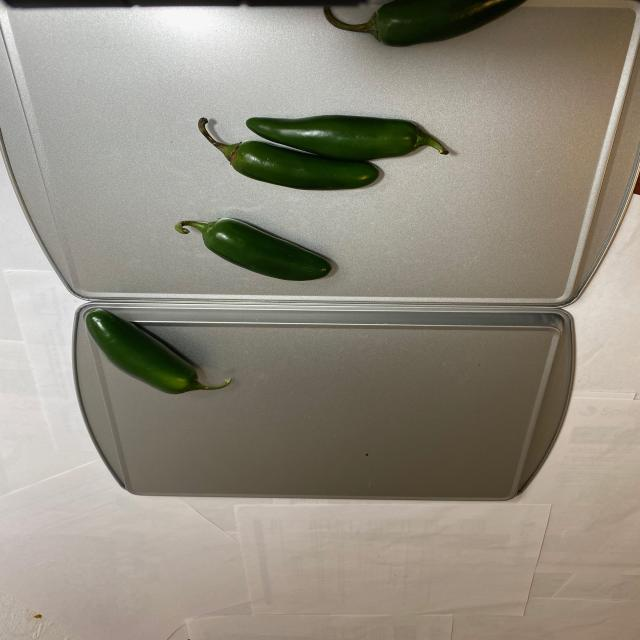chilli: (177, 0, 529, 283), (80, 303, 240, 399)
